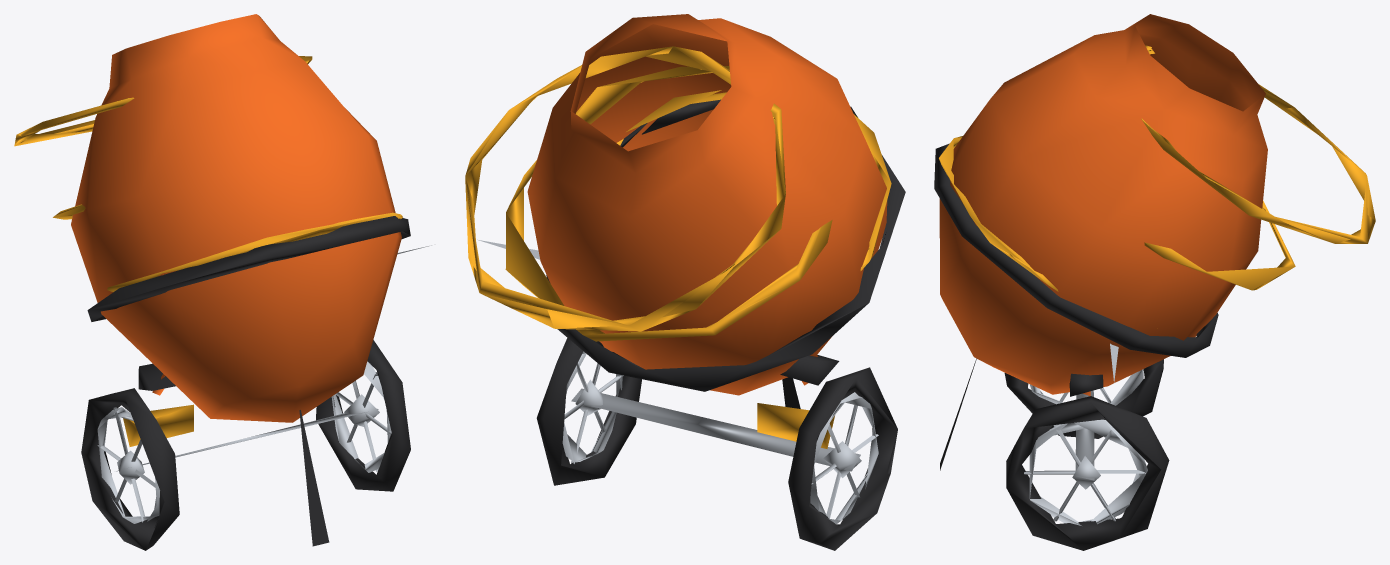
Rendered from cement_mixer.glb.
The picture shows the model from 3 angles, left to right: view 1: azimuth 30°, elevation 25°; view 2: azimuth 150°, elevation 25°; view 3: azimuth 270°, elevation 25°; orthographic projection. The views are drawn at different scales.
Parts seen in each view (by area): view 1: cement_mixer; view 2: cement_mixer; view 3: cement_mixer.
Part boxes in pixels (box(x1,y1,x2,y2)): cement_mixer: box(14, 14, 431, 550); cement_mixer: box(465, 14, 905, 550); cement_mixer: box(934, 14, 1375, 550).
Bounding box in the file's own units: 1.38 × 1.78 × 1.52.
